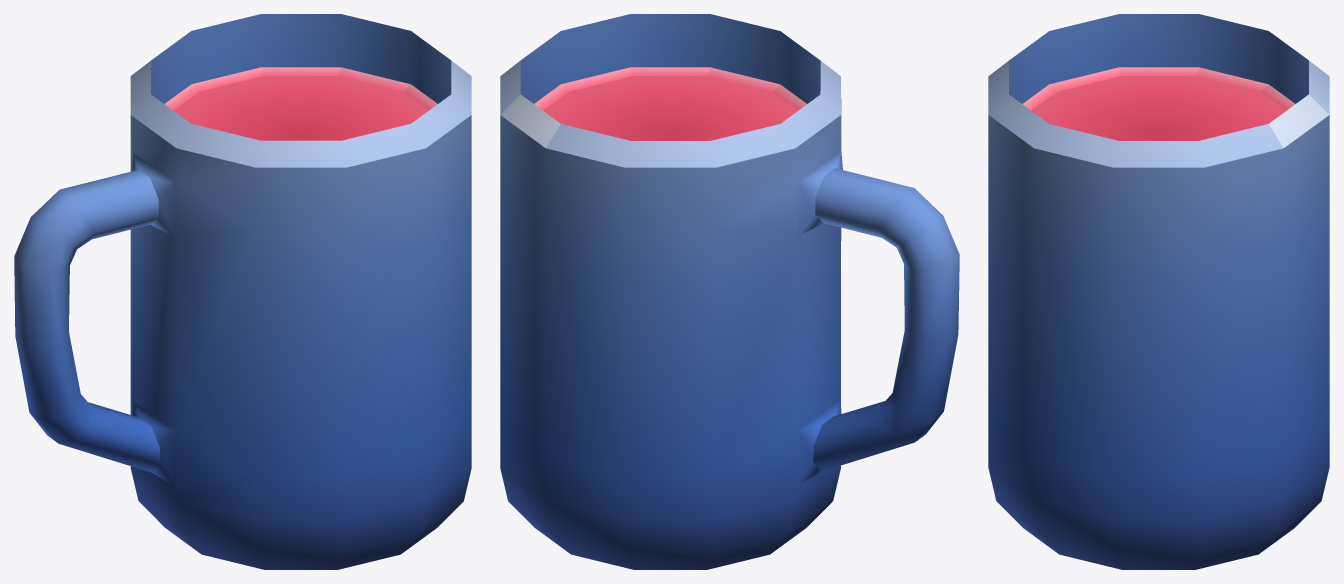
The model's file is m_GlassMug01_Tea07.fbx.
3 views of the same model, side by side, from view 1: azimuth 30°, elevation 25°; view 2: azimuth 150°, elevation 25°; view 3: azimuth 270°, elevation 25° (orthographic).
Parts seen in each view (by area): view 1: m_GlassMug01_Tea07; view 2: m_GlassMug01_Tea07; view 3: m_GlassMug01_Tea07.
Part boxes in pixels (bbox=[...]): m_GlassMug01_Tea07: bbox=[14, 14, 471, 569]; m_GlassMug01_Tea07: bbox=[500, 14, 959, 569]; m_GlassMug01_Tea07: bbox=[988, 14, 1329, 569].
Size of the model in its own units: 11.37 by 10.99 by 7.81.
